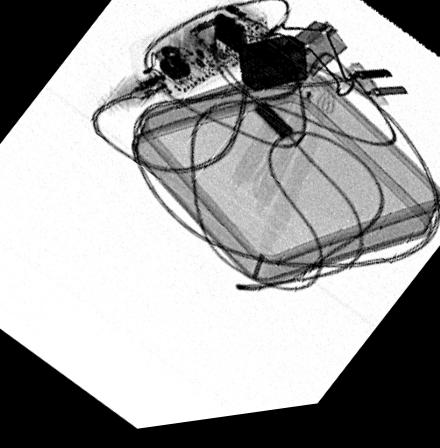Lighter: (235, 42, 306, 99)
